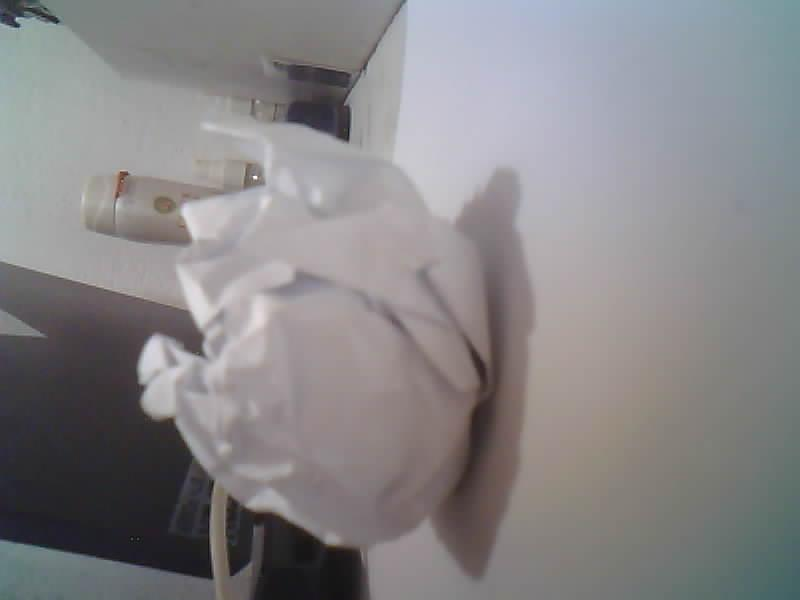biodegradable: (138, 120, 490, 546)
